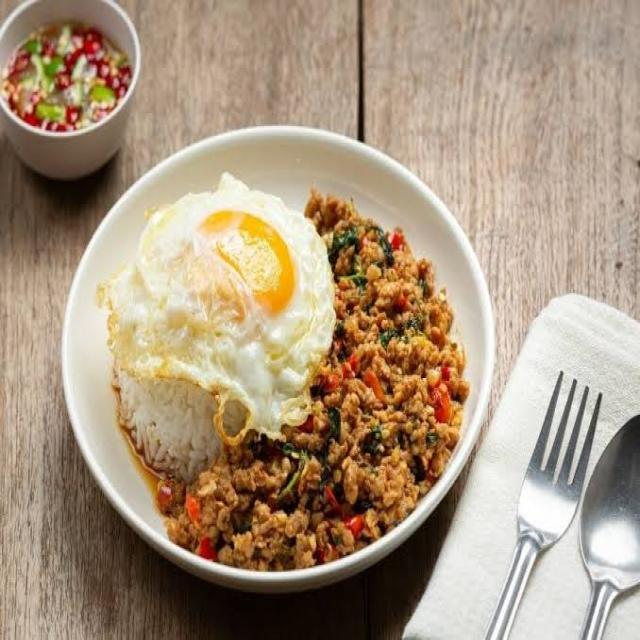basil chicken rice: (108, 177, 487, 562)
carb: (117, 340, 222, 486)
meat: (316, 188, 466, 536)
